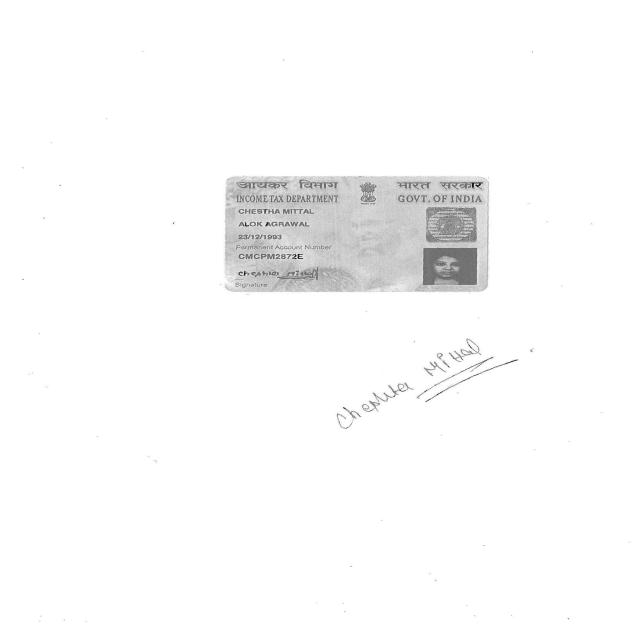pan_card: (221, 174, 490, 292)
